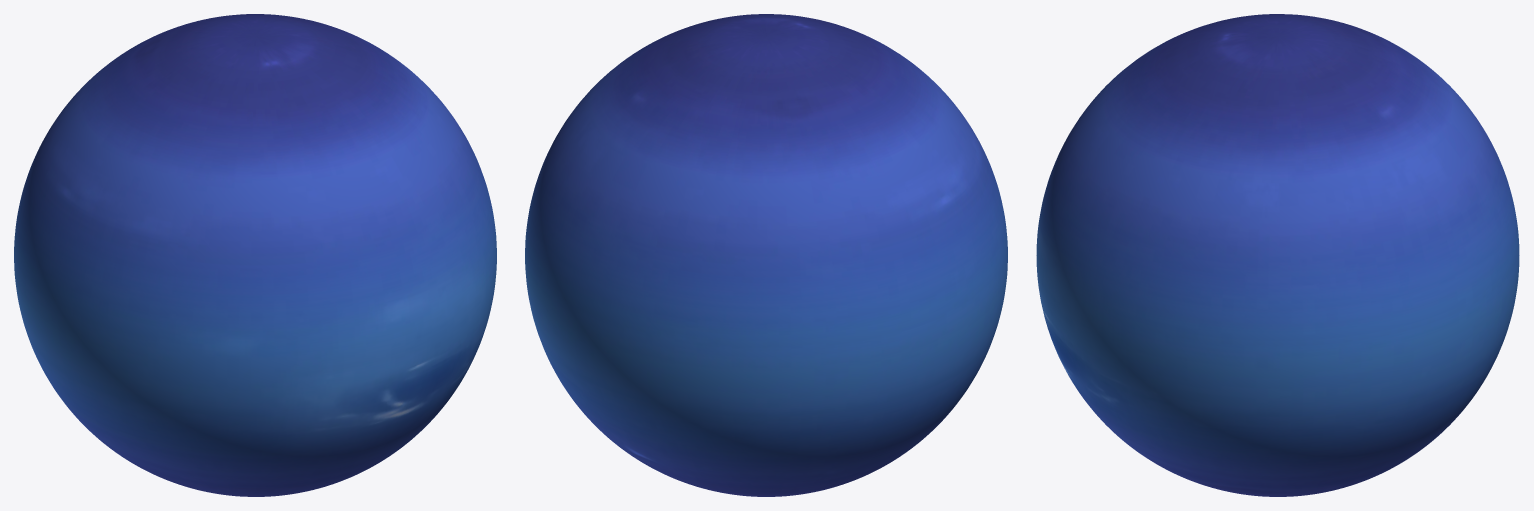
File: planet_15.glb
3 views of the same model, side by side, from view 1: azimuth 30°, elevation 25°; view 2: azimuth 150°, elevation 25°; view 3: azimuth 270°, elevation 25° (orthographic).
Parts seen in each view (by area): view 1: converted.glb; view 2: converted.glb; view 3: converted.glb.
Boxes of the visible parts, <box> form: converted.glb: <box>14,14,496,496</box>; converted.glb: <box>525,14,1007,496</box>; converted.glb: <box>1036,14,1519,496</box>.
Size of the model in its own units: 1 by 1 by 1.
Materials: 1 (1 with a texture image).
